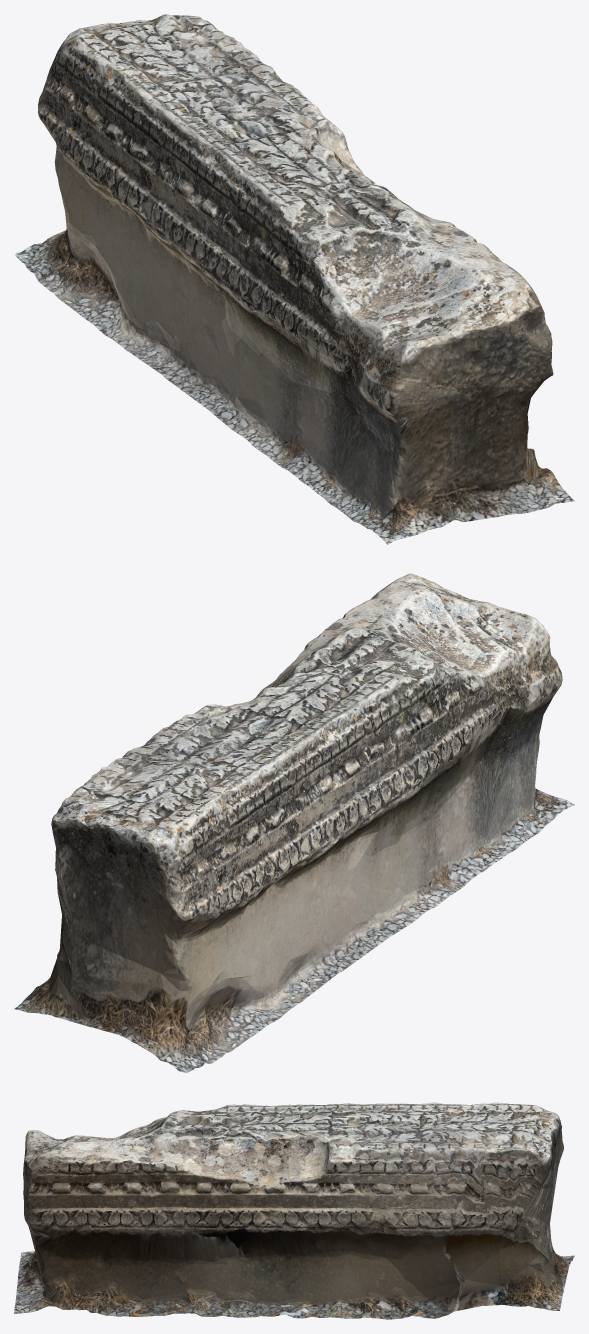
The model's file is carved-architectural-block-with-laurel-motifs-.glb.
3 views of the same model, one above another, from view 1: azimuth 30°, elevation 25°; view 2: azimuth 150°, elevation 25°; view 3: azimuth 270°, elevation 25° (orthographic). The views are drawn at different scales.
Visible parts, largest first — view 1: Object_3; view 2: Object_3; view 3: Object_3.
Part boxes in pixels (left/top/right/bottom): Object_3: left=14, top=14, right=574, bottom=544; Object_3: left=14, top=573, right=574, bottom=1073; Object_3: left=14, top=1102, right=574, bottom=1319.
Bounding box in the file's own units: 0.4997 × 0.5678 × 1.69.
Materials: 1 (1 with a texture image).
